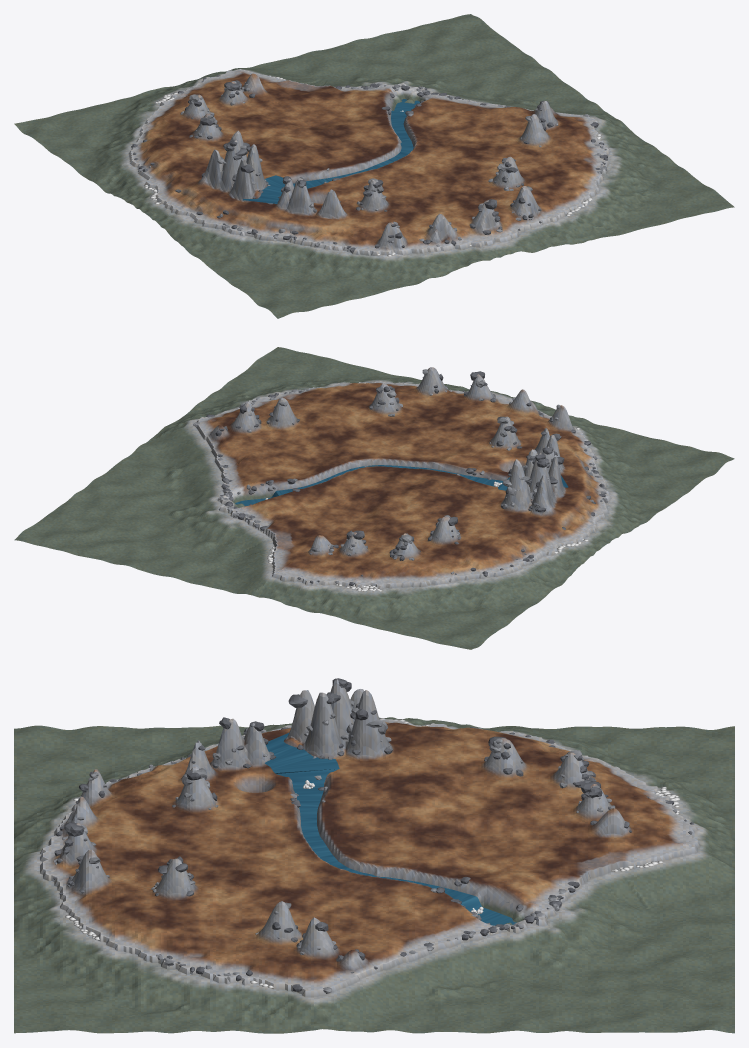
Rendered from Terrain_P3.fbx.
3 renders of one model, top to bottom at view 1: azimuth 30°, elevation 25°; view 2: azimuth 150°, elevation 25°; view 3: azimuth 270°, elevation 25°, orthographic. The views are drawn at different scales.
Parts seen in each view (by area): view 1: Ground, River; view 2: Ground, River; view 3: Ground, River, Surf.
Boxes of the visible parts, x1,y1,x2,y2 form: Ground: (14,14,734,318); River: (243,99,419,203); Ground: (14,347,734,649); River: (235,465,568,506); Ground: (14,679,734,1033); River: (265,733,516,925); Surf: (64,718,679,987).
Size of what is drawn, in the model's own units: 64000 by 9981 by 64000.
